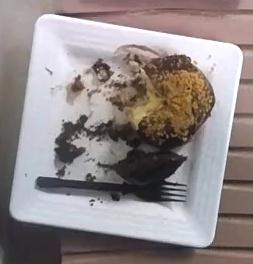donut: (110, 53, 214, 148), (97, 147, 187, 185)
